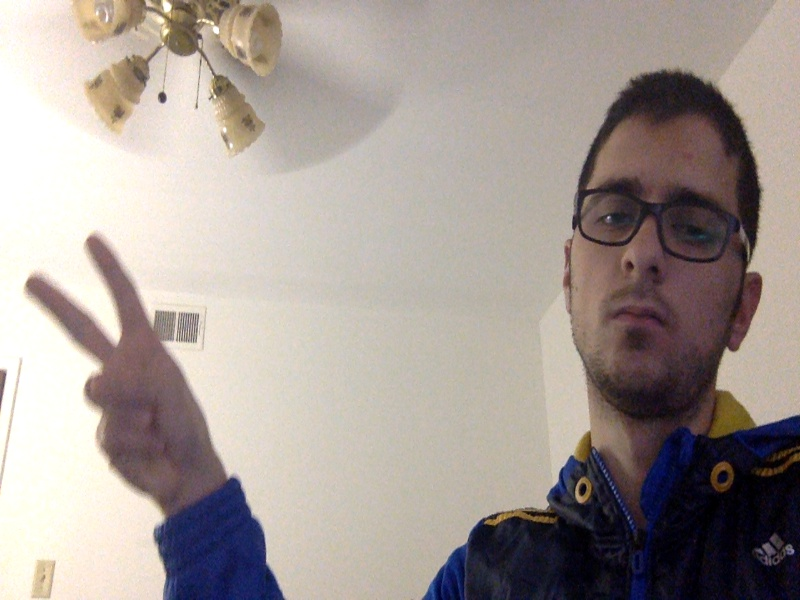2-hand: (23, 234, 198, 490)
